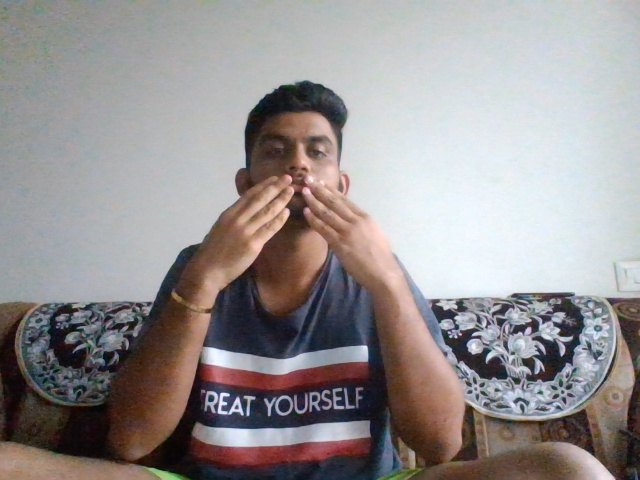Thank You: (199, 170, 404, 287)
